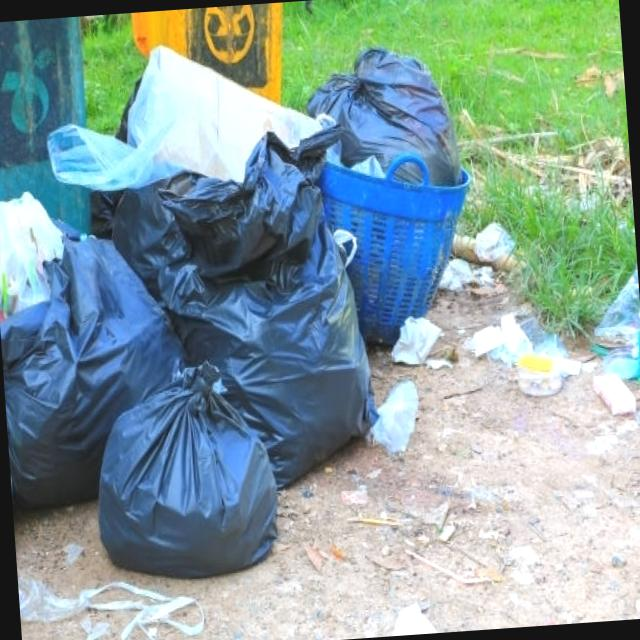garbage: (0, 40, 506, 601)
